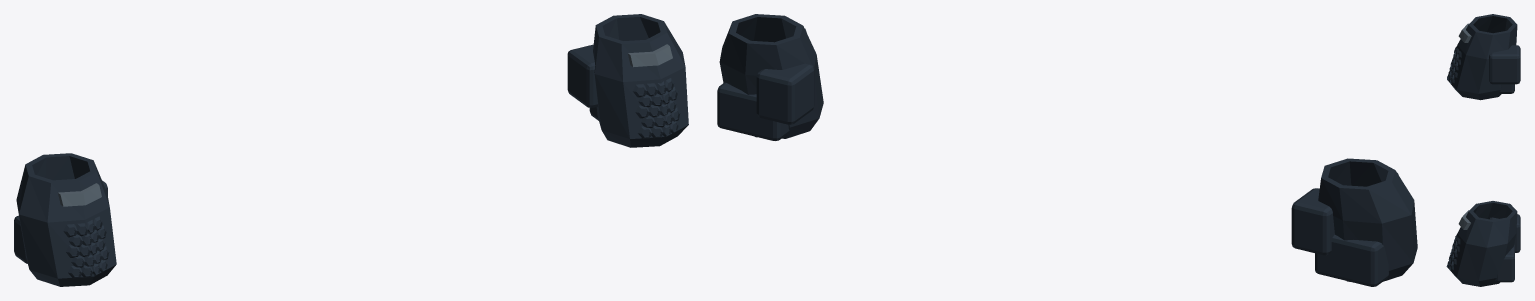
Rendered from ring_hands-male.glb.
3 renders of one model, left to right at view 1: azimuth 30°, elevation 25°; view 2: azimuth 150°, elevation 25°; view 3: azimuth 270°, elevation 25°, orthographic. The views are drawn at different scales.
Parts seen in each view (by area): view 1: Block hand armor -1, Block hand armor 1, ring woven coverage on Block hand armor 1, Block thumb armor 1, ring woven coverage on Block hand armor -1, Glove turned wrist seam 1, Glove turned wrist seam -1; view 2: Block hand armor -1, Block hand armor 1, Block thumb armor 1, Block hand curl armor -1, Block hand curl armor 1, Block thumb armor -1; view 3: Block hand armor 1, Block hand armor -1, Block thumb armor -1, Block hand curl armor 1, ring woven coverage on Block hand armor -1, ring woven coverage on Block hand armor 1, Block thumb armor 1, Block hand curl armor -1, Glove turned wrist seam -1, Glove turned wrist seam 1.
Boxes of the visible parts, left/top/right/bottom form: Block hand armor -1: left=16, top=153, right=116, bottom=286; Block hand armor 1: left=593, top=14, right=688, bottom=147; ring woven coverage on Block hand armor 1: left=633, top=78, right=680, bottom=138; Block thumb armor 1: left=567, top=44, right=598, bottom=107; ring woven coverage on Block hand armor -1: left=63, top=216, right=109, bottom=278; Glove turned wrist seam 1: left=628, top=44, right=672, bottom=67; Glove turned wrist seam -1: left=58, top=183, right=101, bottom=206; Block hand armor -1: left=1318, top=158, right=1417, bottom=281; Block hand armor 1: left=719, top=14, right=823, bottom=138; Block thumb armor 1: left=756, top=63, right=814, bottom=124; Block hand curl armor -1: left=1315, top=235, right=1388, bottom=286; Block hand curl armor 1: left=717, top=82, right=789, bottom=140; Block thumb armor -1: left=1291, top=188, right=1334, bottom=255; Block hand armor 1: left=1448, top=201, right=1517, bottom=286; Block hand armor -1: left=1448, top=14, right=1517, bottom=100; Block thumb armor -1: left=1489, top=45, right=1520, bottom=84; Block hand curl armor 1: left=1495, top=244, right=1514, bottom=282; ring woven coverage on Block hand armor -1: left=1447, top=46, right=1461, bottom=85; ring woven coverage on Block hand armor 1: left=1446, top=234, right=1460, bottom=272; Block thumb armor 1: left=1489, top=214, right=1520, bottom=252; Block hand curl armor -1: left=1499, top=84, right=1514, bottom=93; Glove turned wrist seam -1: left=1458, top=23, right=1471, bottom=42; Glove turned wrist seam 1: left=1458, top=210, right=1470, bottom=229.
Size of the model in its own units: 3.75 by 0.52 by 0.5392.
